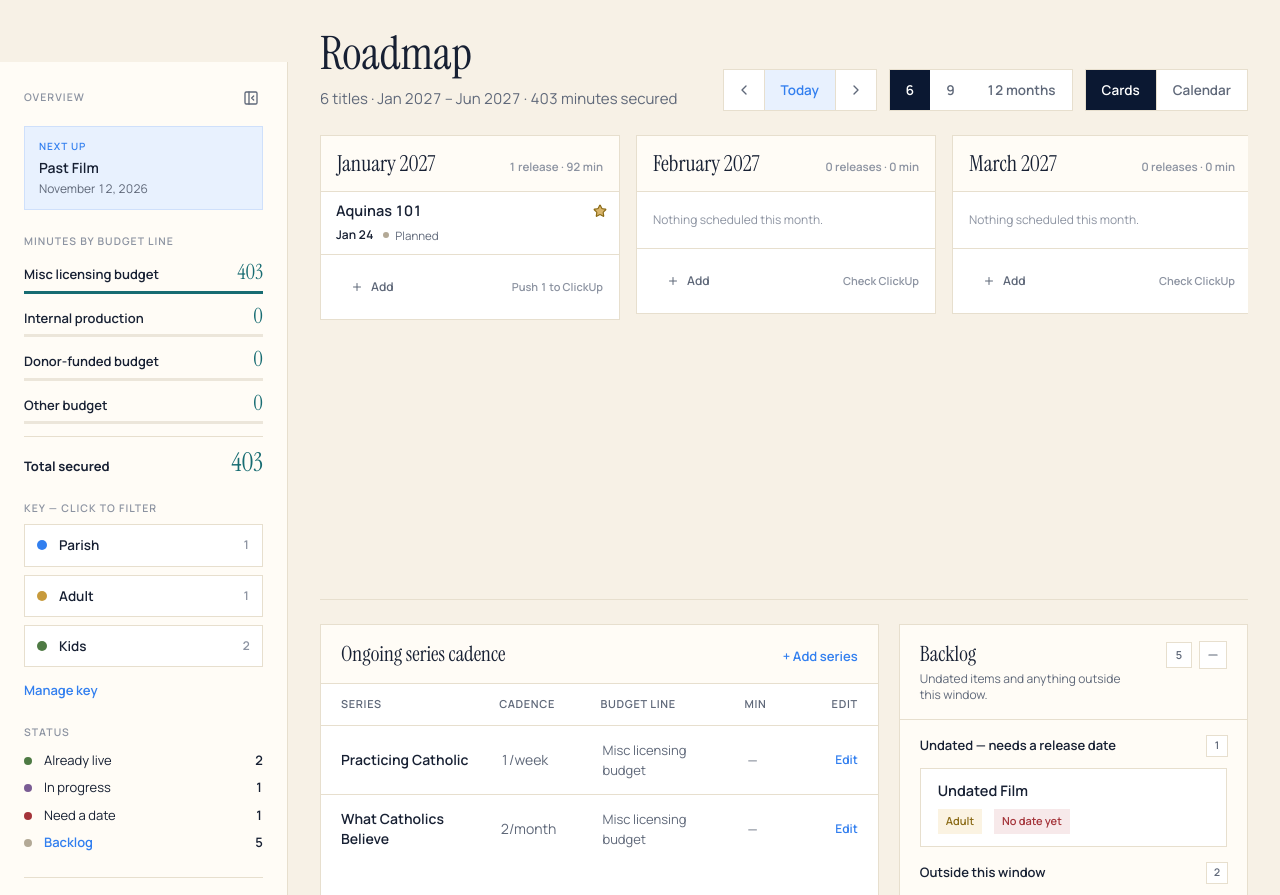
RoadmapDashboard › stacks a Mix row on top of the category key filter
Step 1. Click the button with aria-label "Filter Kids" → point(144, 646), box [24,625,263,667]
(page scrolled)
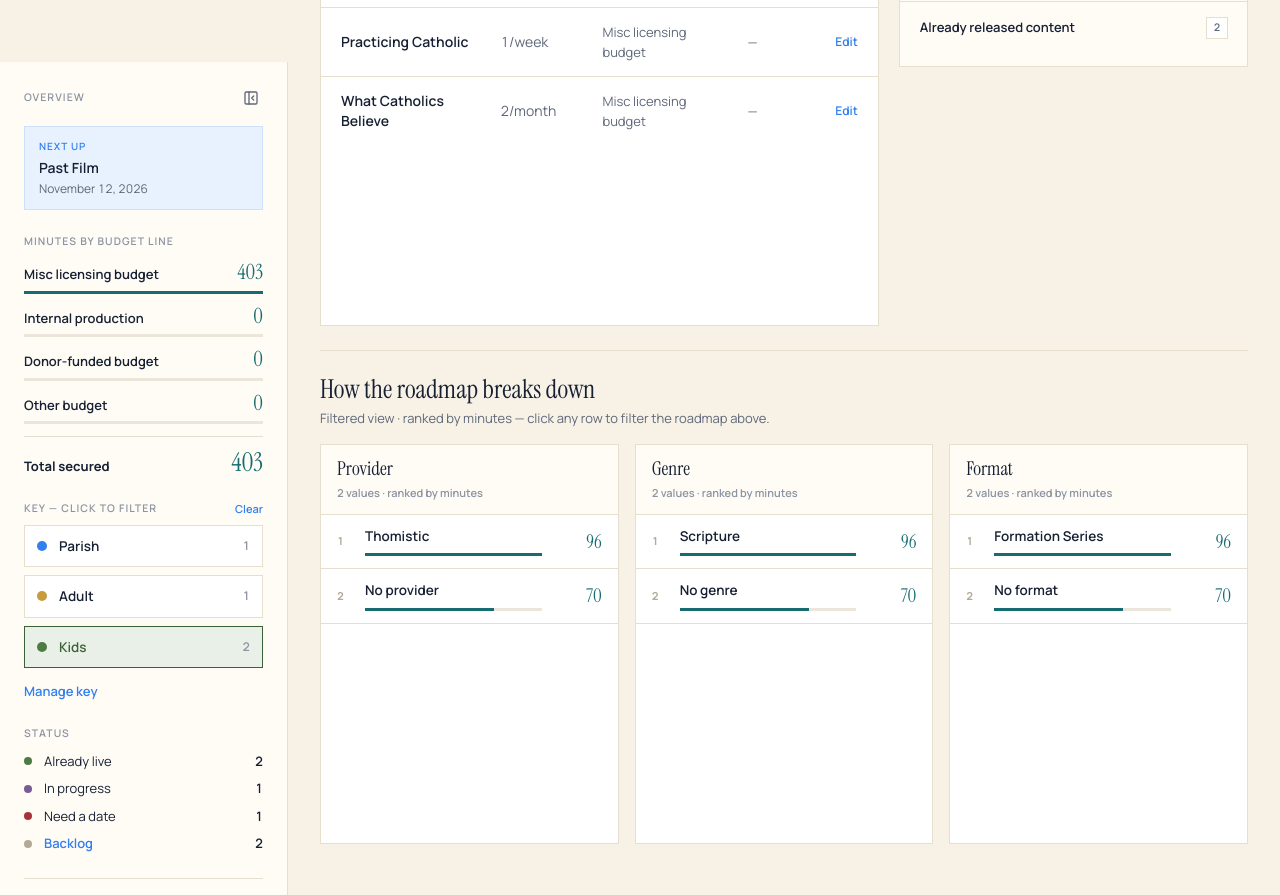
// The Mix now ranks only the Kids titles, so Thomistic carries just Recent Film.
Step 2. Click the button with aria-label "Filter by Provider Thomistic" → point(397, 536), box [321,515,618,569]
(page scrolled)
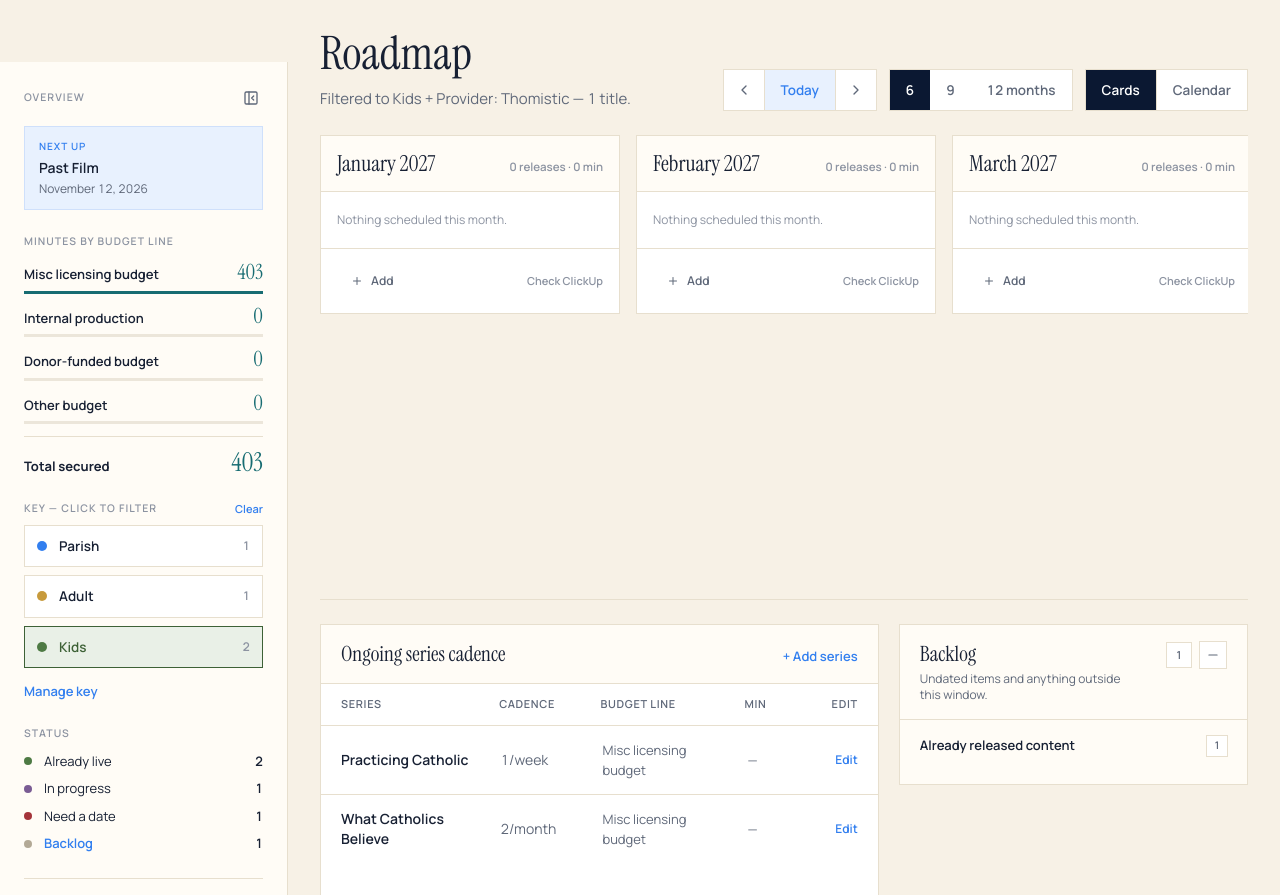
Expected: the text "Filtered to Kids + Provider: Thomistic — 1 title." is shown, [320,87,631,111]
